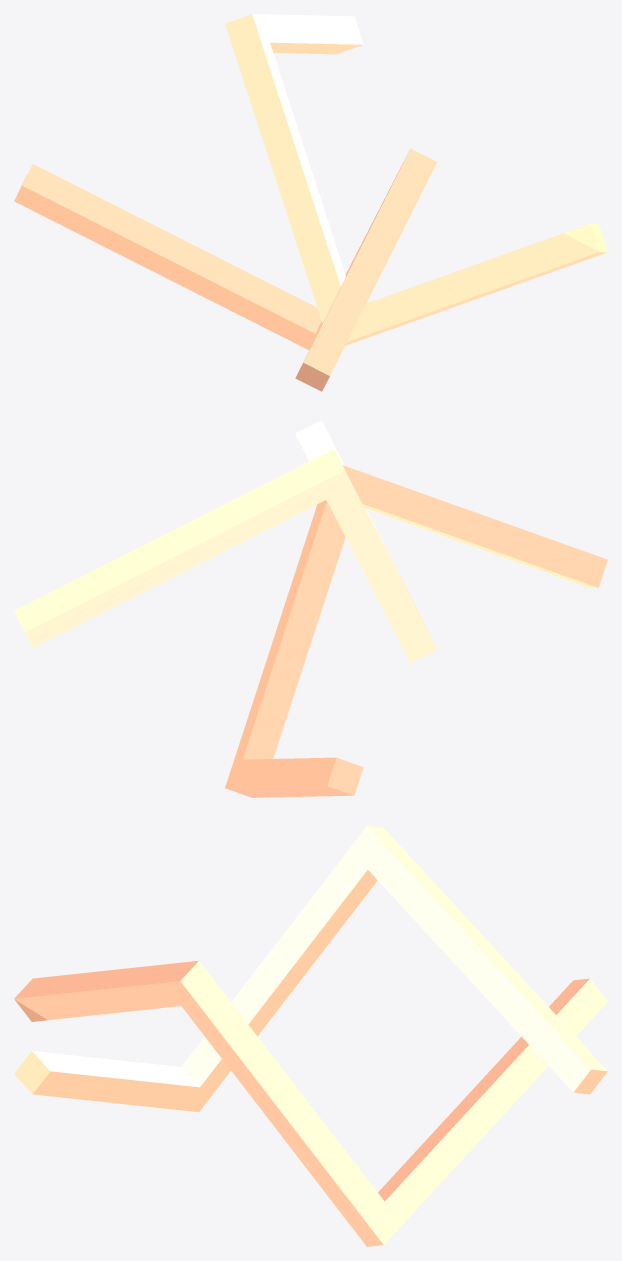
File: double_triangle.gltf
The picture shows the model from 3 angles, top to bottom: view 1: azimuth 30°, elevation 25°; view 2: azimuth 150°, elevation 25°; view 3: azimuth 270°, elevation 25°; orthographic projection. The views are drawn at different scales.
Parts seen in each view (by area): view 1: Cube001, Cube; view 2: Cube, Cube001; view 3: Cube, Cube001.
Boxes of the visible parts, x1=… form: Cube001: x1=225, y1=14, x2=607, y2=345; Cube: x1=14, y1=148, x2=436, y2=391; Cube: x1=225, y1=465, x2=607, y2=797; Cube001: x1=14, y1=420, x2=436, y2=663; Cube: x1=14, y1=960, x2=607, y2=1246; Cube001: x1=14, y1=826, x2=607, y2=1112.
Bounding box in the file's own units: 6.13 × 6.32 × 8.97.
